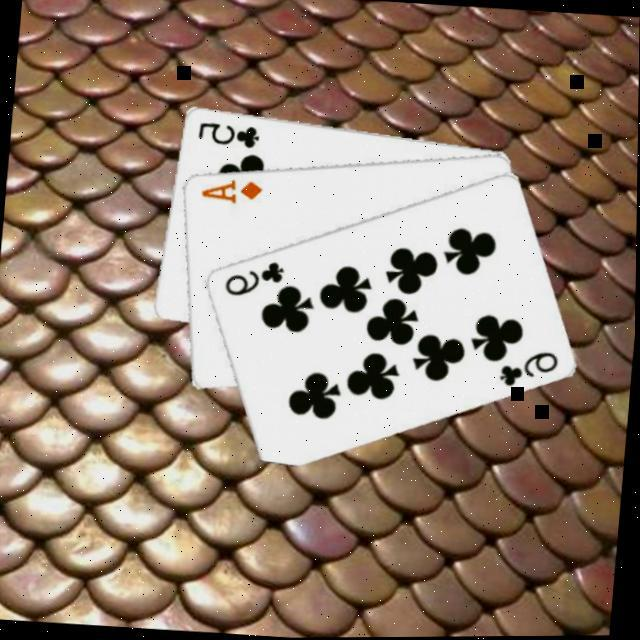5C: (196, 116, 264, 151)
9C: (222, 253, 290, 301), (497, 344, 565, 392)
AD: (199, 173, 267, 208)
